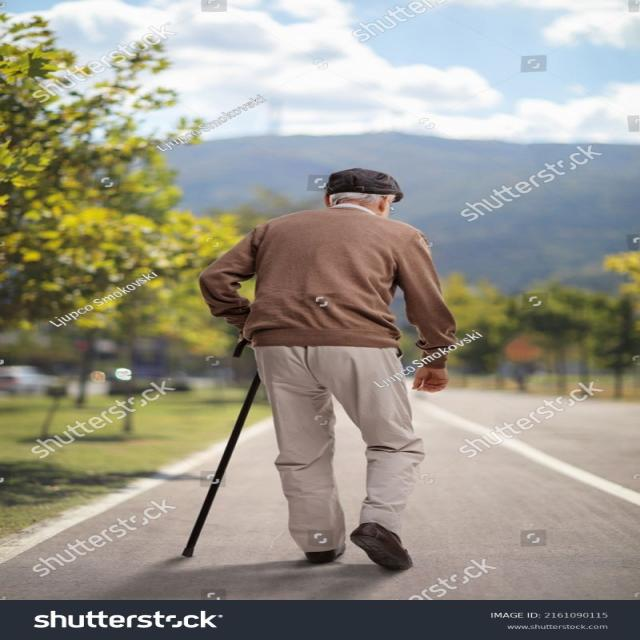idoso em pe: (204, 169, 466, 582)
